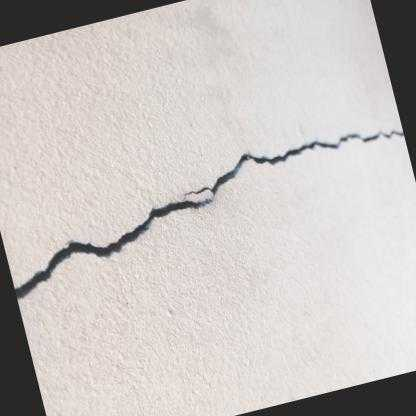crack: (14, 128, 404, 299)
